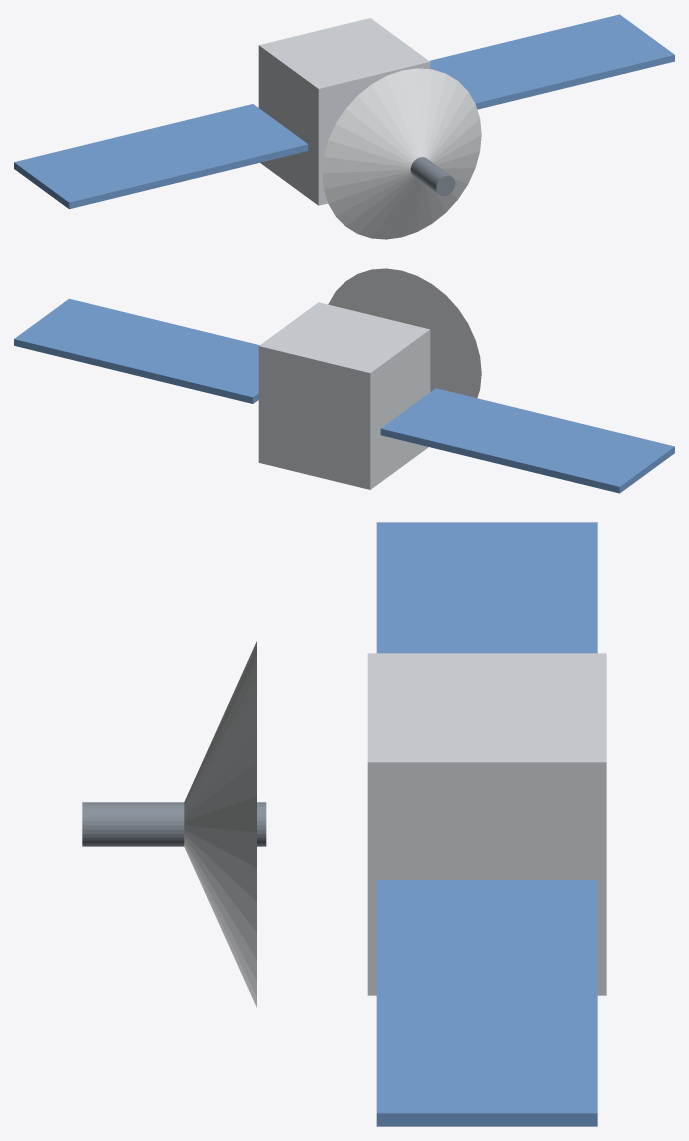
Rendered from weather.glb.
3 views of the same model, one above another, from view 1: azimuth 30°, elevation 25°; view 2: azimuth 150°, elevation 25°; view 3: azimuth 270°, elevation 25° (orthographic). The views are drawn at different scales.
Visible parts, largest first — view 1: weather_3, weather_1, weather_0, weather_2, weather_4; view 2: weather_0, weather_1, weather_2, weather_3; view 3: weather_0, weather_2, weather_1, weather_3, weather_4.
Boxes of the visible parts, box(x1,y1,x2,y2) form: weather_3: box(322, 68, 481, 239); weather_1: box(14, 104, 308, 209); weather_0: box(258, 18, 430, 205); weather_2: box(429, 14, 674, 109); weather_4: box(410, 157, 455, 196); weather_0: box(258, 302, 430, 489); weather_1: box(380, 388, 674, 493); weather_2: box(14, 298, 259, 403); weather_3: box(328, 268, 481, 397); weather_0: box(367, 653, 606, 995); weather_2: box(376, 880, 597, 1126); weather_1: box(376, 522, 597, 653); weather_3: box(184, 641, 256, 1007); weather_4: box(82, 802, 266, 846).
Size of the model in its own units: 7.6 by 2 by 2.85.
